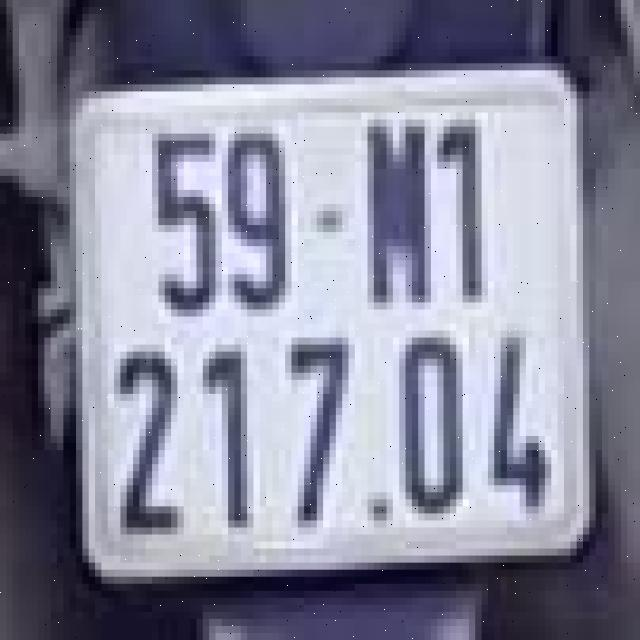0: (387, 320, 475, 531)
1: (203, 341, 272, 545), (437, 109, 501, 313)
2: (111, 344, 187, 534)
4: (485, 330, 561, 520)
5: (143, 120, 231, 330)
7: (285, 334, 361, 531)
9: (228, 130, 298, 313)
M: (348, 113, 431, 310)
